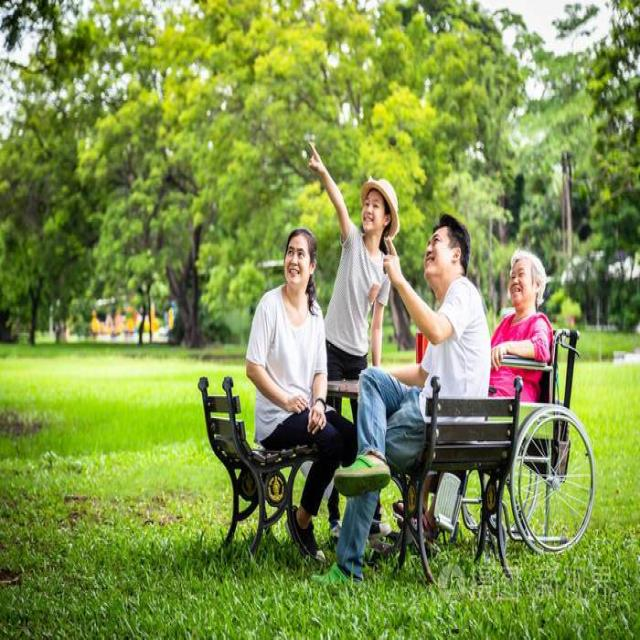wheelchairs: (454, 310, 596, 572)
